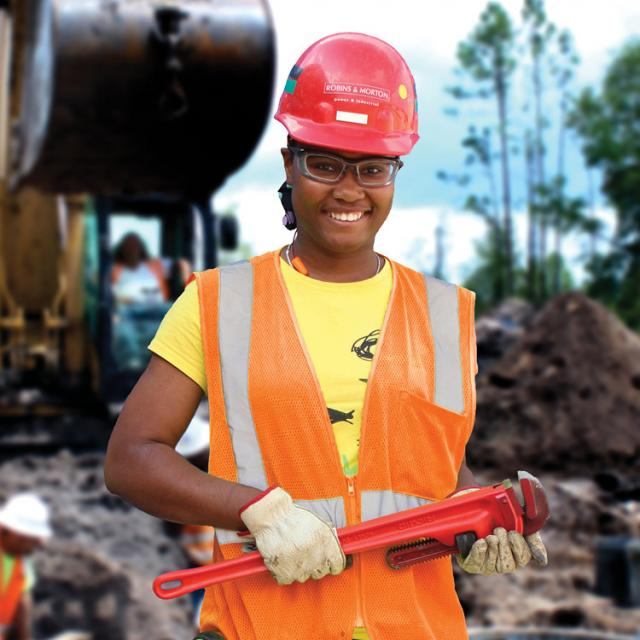Reflective-Jacket: (183, 247, 480, 640), (0, 536, 36, 640)
Safety-Helmet: (272, 26, 424, 157)
